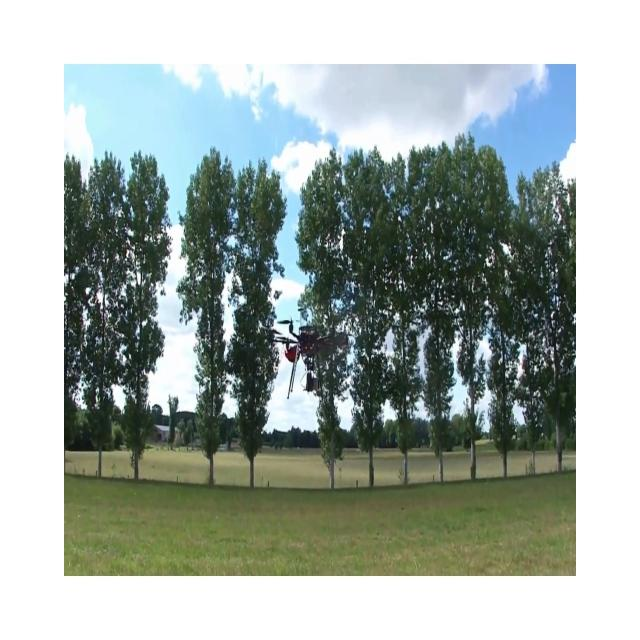drone: (259, 304, 349, 399)
